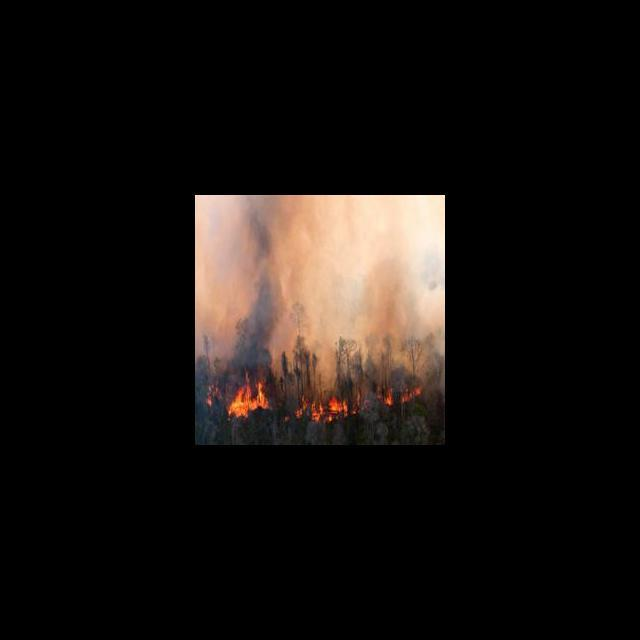Fire: (203, 373, 424, 422)
Smoke: (196, 201, 410, 361)
